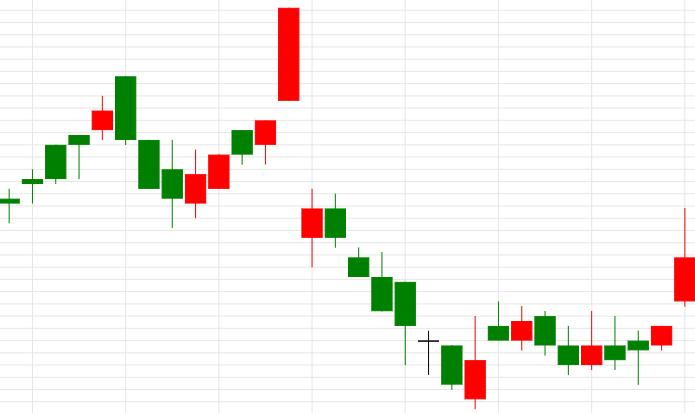inverse_hammer_rise: (277, 7, 486, 409)
